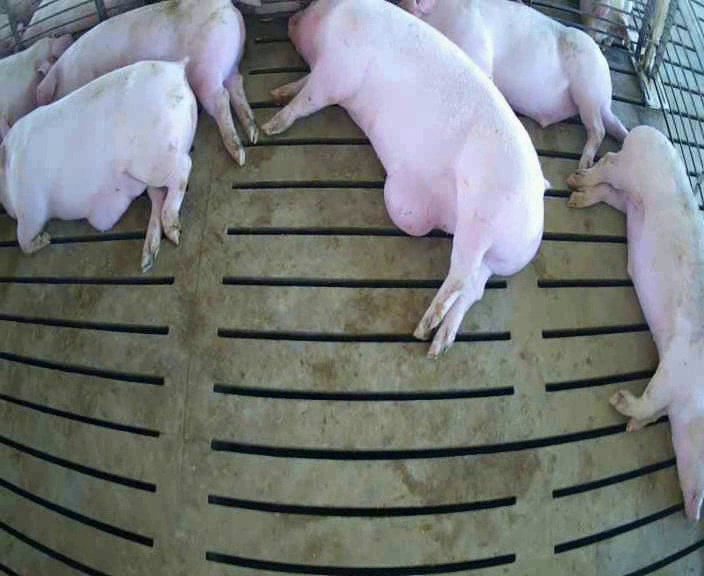pig: (262, 2, 544, 356), (568, 126, 703, 520), (0, 61, 196, 270), (401, 2, 627, 167), (37, 2, 257, 164)
